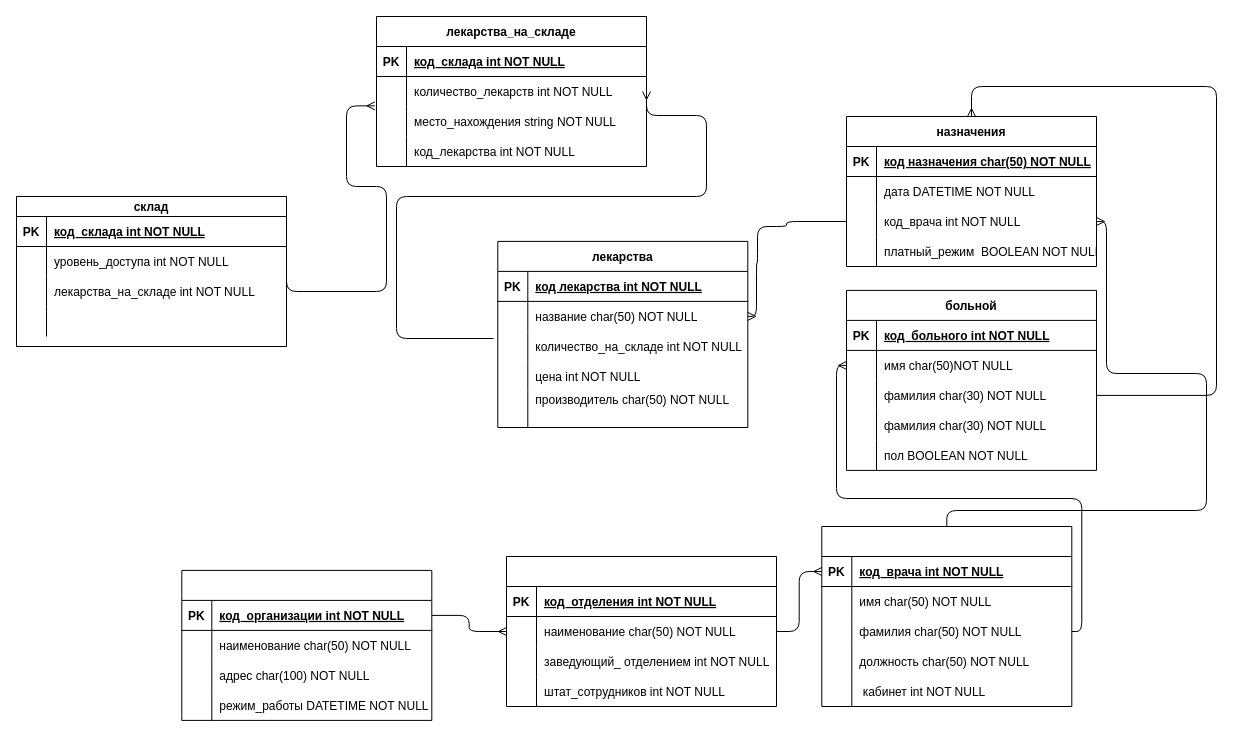
This 1233x737 diagram has some shape labels left out. Each missing label, with the box of its shape:
лечащее_отделение: (506, 556, 776, 706)
лечащий врач: (821, 526, 1072, 706)
Поликлиника: (181, 569, 432, 720)
